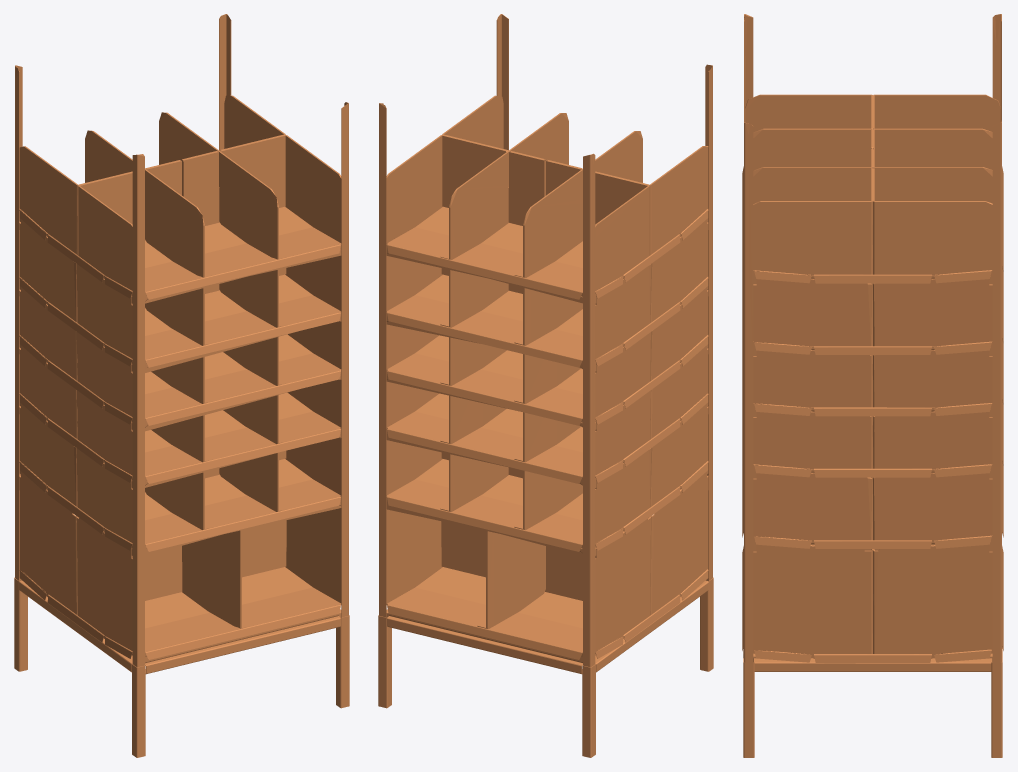
File: shelf_visual.dae
3 renders of one model, left to right at view 1: azimuth 30°, elevation 25°; view 2: azimuth 150°, elevation 25°; view 3: azimuth 270°, elevation 25°, orthographic. The views are drawn at different scales.
Parts seen in each view (by area): view 1: Pod_Lowres; view 2: Pod_Lowres; view 3: Pod_Lowres.
Part boxes in pixels (<box>): Pod_Lowres: <box>14,14,349,757</box>; Pod_Lowres: <box>378,14,713,757</box>; Pod_Lowres: <box>742,14,1003,757</box>.
Bounding box in the file's own units: 0.8795 × 0.8842 × 2.37.
